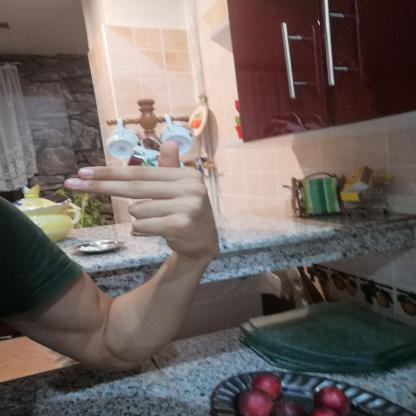GHAYN: (55, 133, 235, 269)
